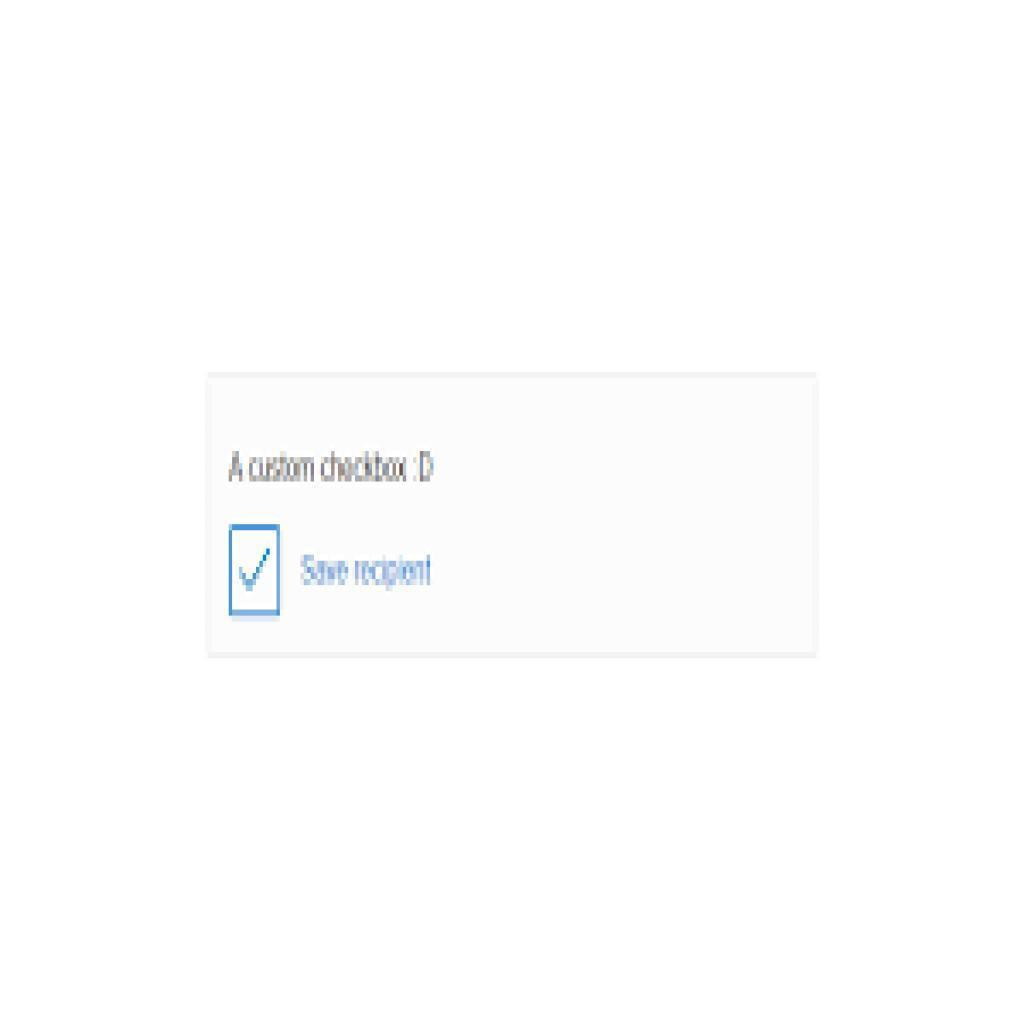button: (300, 544, 437, 594)
checkbox: (229, 524, 282, 615)
